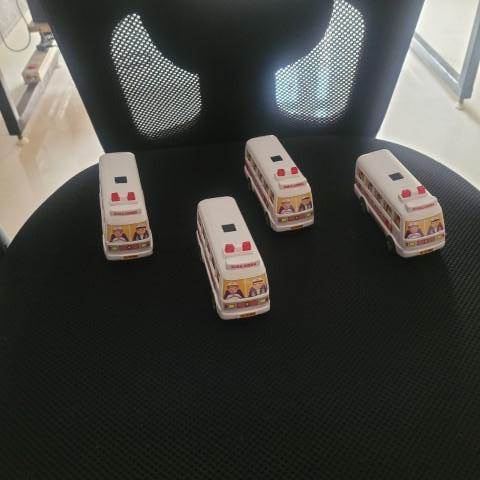ambulance: (350, 146, 450, 258), (192, 192, 271, 329), (242, 131, 317, 231), (95, 150, 156, 262)
